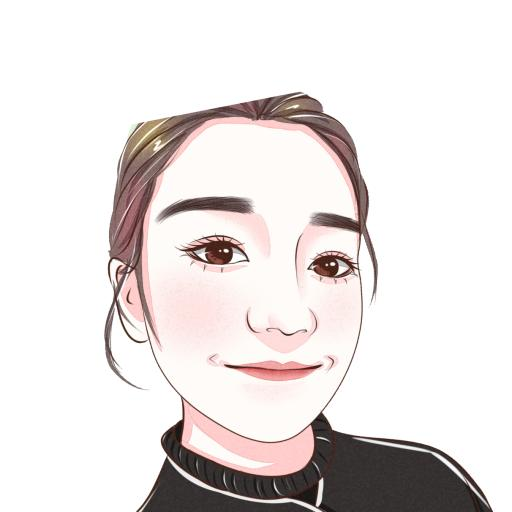NoHuman: (0, 0, 509, 512)
